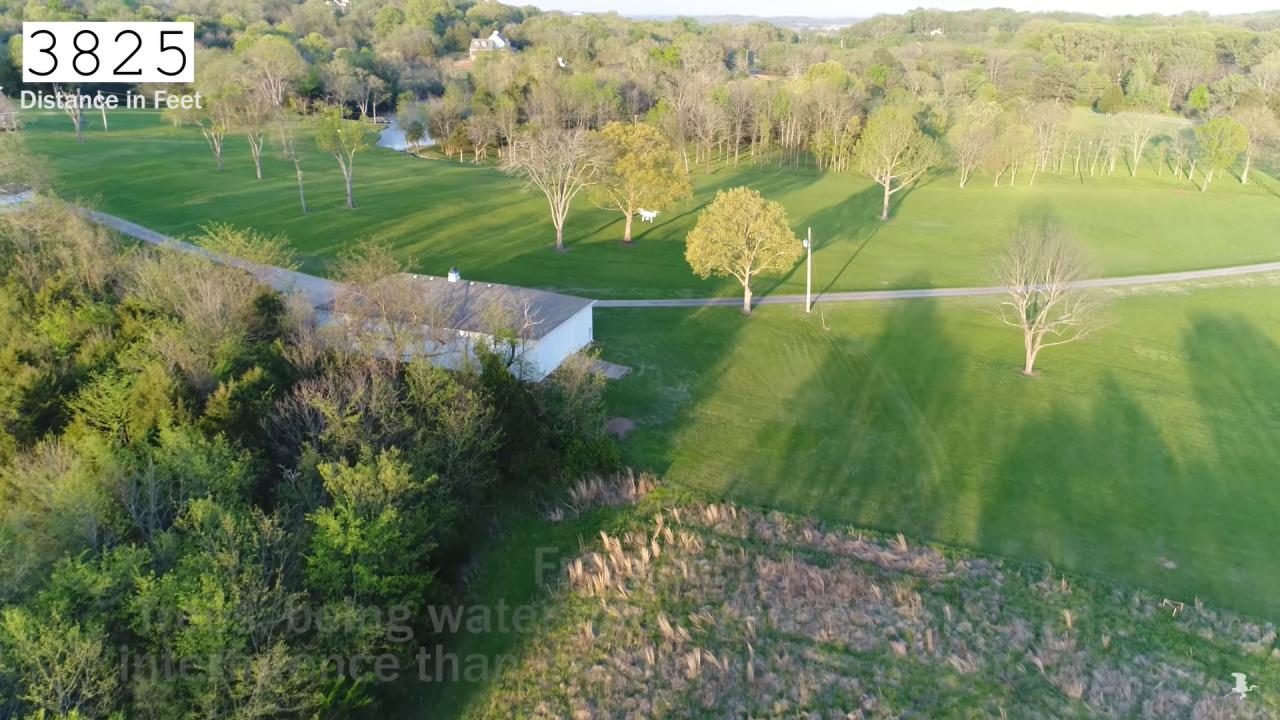Drone: (630, 200, 667, 229)
